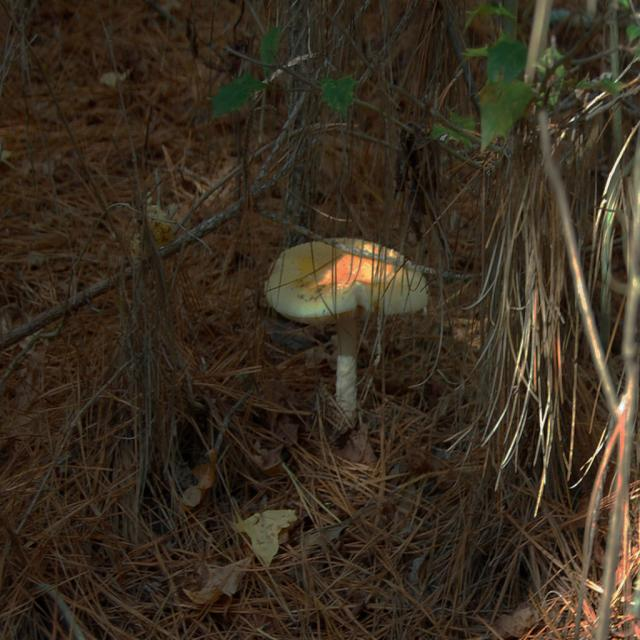Mushroom: (262, 238, 430, 422)
